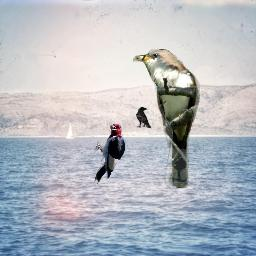Crow: (136, 107, 151, 128)
Cuckoo: (133, 49, 200, 188)
Woodpecker: (92, 120, 126, 186)
